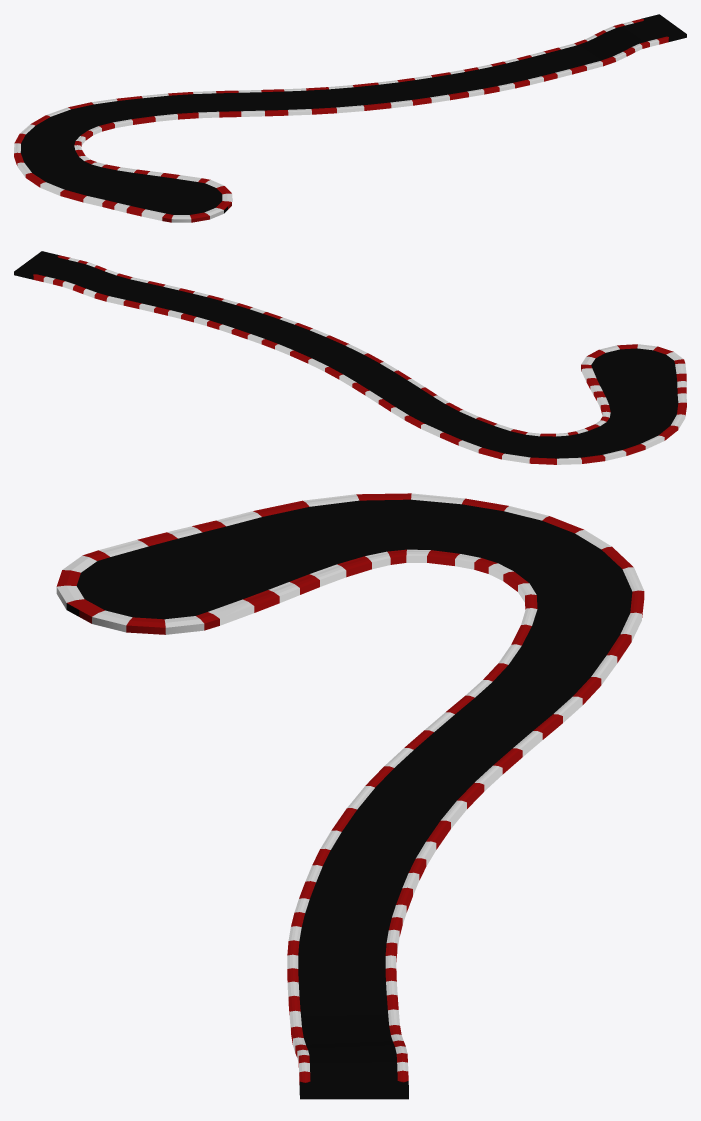
Rendered from track - out of cave.FBX.
3 renders of one model, top to bottom at view 1: azimuth 30°, elevation 25°; view 2: azimuth 150°, elevation 25°; view 3: azimuth 270°, elevation 25°, orthographic. The views are drawn at different scales.
Visible parts, largest first — view 1: out of cave; view 2: out of cave; view 3: out of cave.
Boxes of the visible parts, bbox=[...] form: out of cave: bbox=[14, 14, 686, 222]; out of cave: bbox=[14, 251, 686, 464]; out of cave: bbox=[56, 493, 644, 1099].
Bounding box in the file's own units: 375 × 5.71 × 151.
